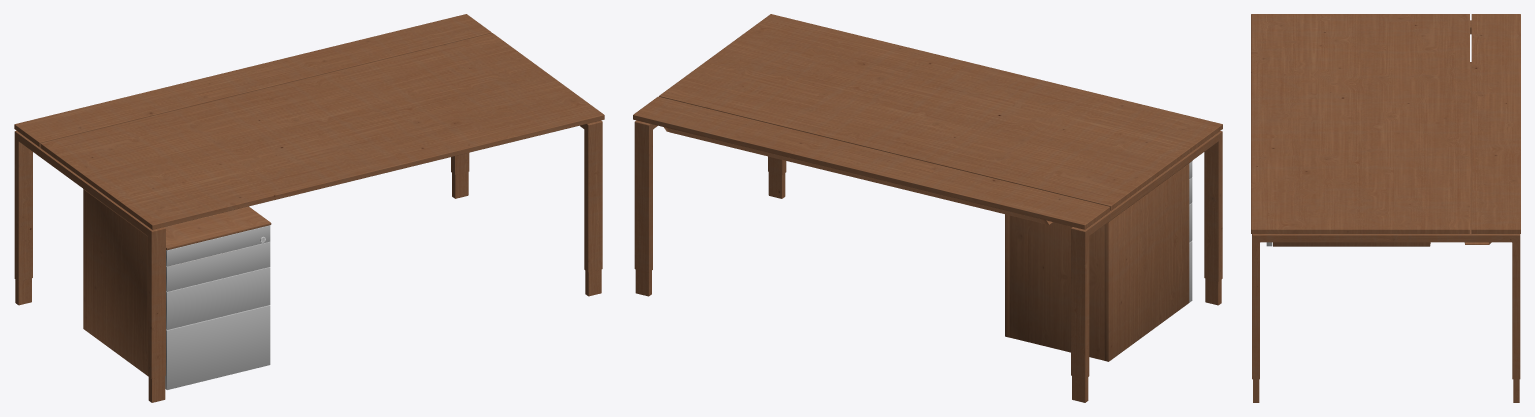
Rendered from drawer_desk.glb.
The picture shows the model from 3 angles, left to right: view 1: azimuth 30°, elevation 25°; view 2: azimuth 150°, elevation 25°; view 3: azimuth 270°, elevation 25°; orthographic projection. The views are drawn at different scales.
Visible parts, largest first — view 1: Drawer Desk; view 2: Drawer Desk; view 3: Drawer Desk.
Boxes of the visible parts, x1,y1,x2,y2 form: Drawer Desk: (14, 14, 604, 402); Drawer Desk: (633, 14, 1222, 402); Drawer Desk: (1251, 14, 1520, 402).
Size of the model in its own units: 1.87 by 0.7049 by 0.9879.
1 material, 1 textured.
